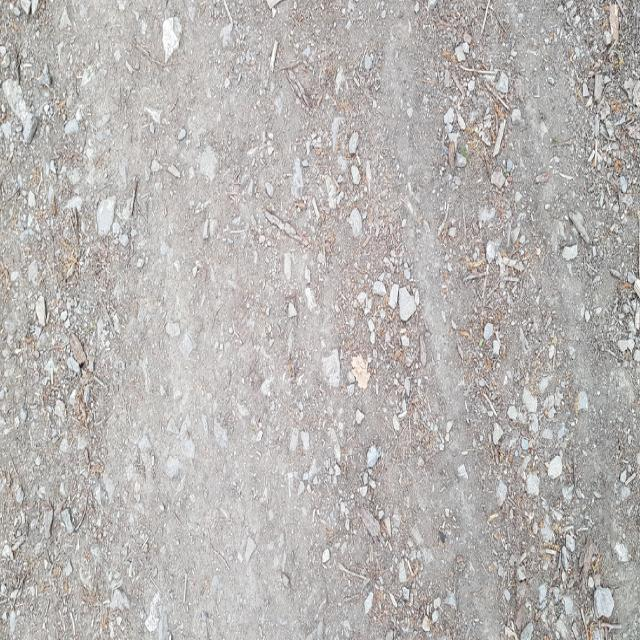grass: (25, 129, 33, 137)
